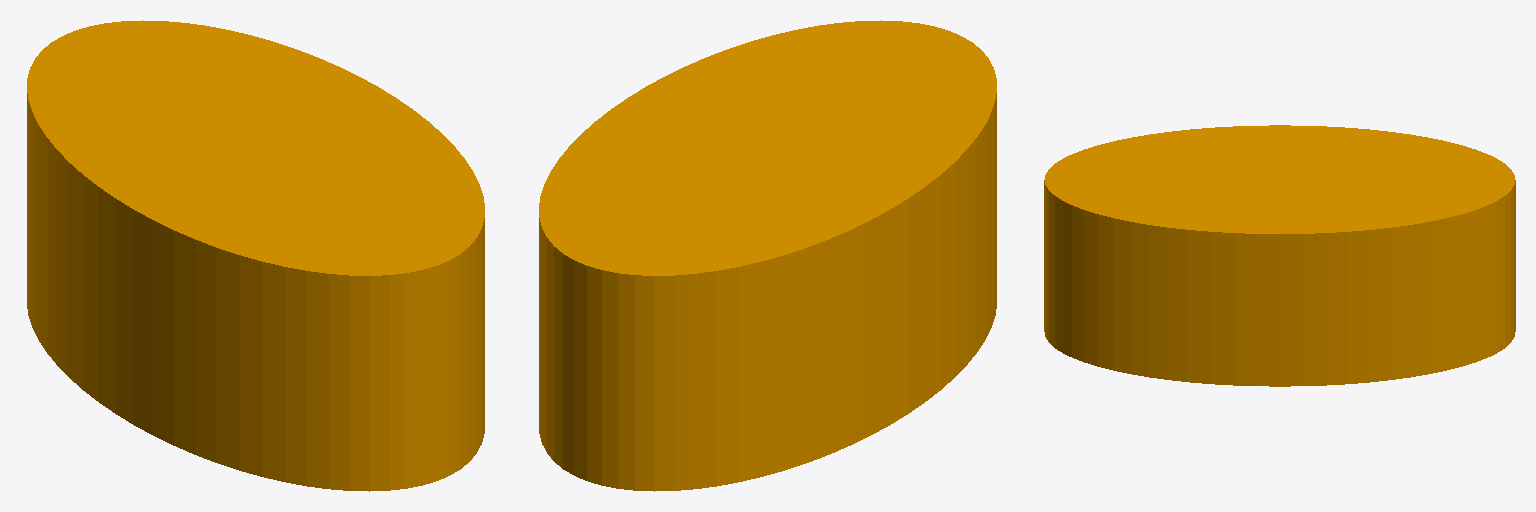
URDF robot description (filler):
<?xml version="0.0" ?>
<robot name="filler">
  <link name="body">
    <visual>
      <geometry>
        <mesh filename="obj/filler.obj" scale=".085 .1 .5"/>
      </geometry>
      <origin rpy="0 0 0" xyz="0 0 0"/>
    </visual>
    <collision>
      <geometry>
        <mesh filename="obj/filler.obj" scale=".085 .1 .5"/>
      </geometry>
      <origin rpy="0 0 0" xyz="0 0 0"/>
    </collision>
    <inertial>
      <mass value="1"/>
      <inertia ixx="1" ixy="0" ixz="0" iyy="1" iyz="0" izz="1"/>
      <origin rpy="0 0 0" xyz="0 0 0"/>
    </inertial>
  </link>

</robot>

--- Render facts (derived) ---
Views: 3 orthographic renders of the robot side by side, from view 1: azimuth 30°, elevation 25°; view 2: azimuth 150°, elevation 25°; view 3: azimuth 270°, elevation 25°.
Model filler with 1 links and 0 joints (none), rooted at body, posed all joints at 0.
Visible links, largest first — view 1: body; view 2: body; view 3: body.
Boxes of the visible links, <box> form: body: <box>27,20,484,491</box>; body: <box>539,20,996,491</box>; body: <box>1044,125,1515,386</box>.
Bounding box of the posed robot: 0.765 × 1.4 × 0.5 m (x, y, z).
1 mesh visuals loaded from 1 distinct referenced files (1 OBJ).